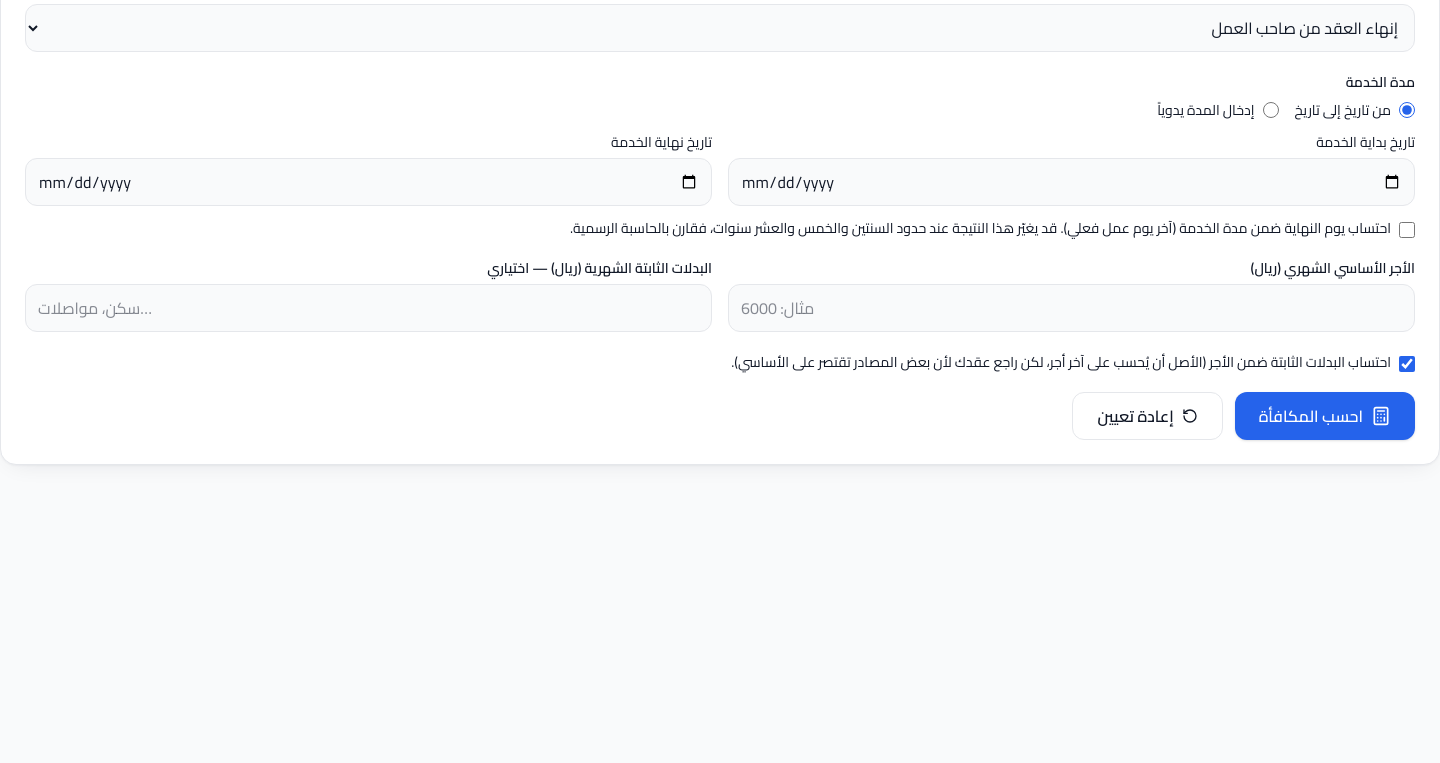
Test case: EosCalculator › accepts Arabic-Indic digits and thousands separators
The image size is (1440, 763).
Click the radio button labelled "إدخال المدة يدوياً" at (1270, 110), box x1=1262 y1=102 x2=1278 y2=118
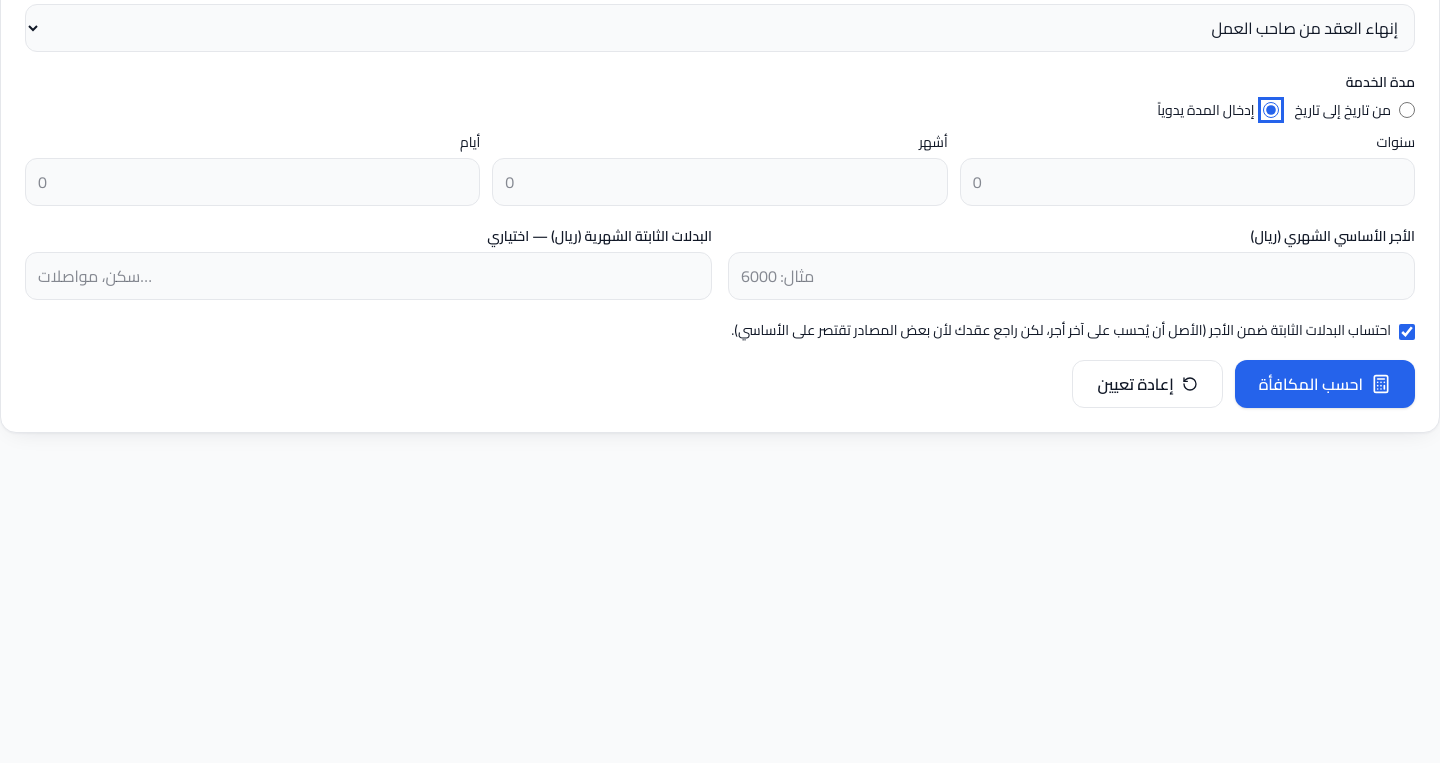
Type "٣" into the field labelled "سنوات" at (1187, 182), box x1=960 y1=158 x2=1415 y2=206
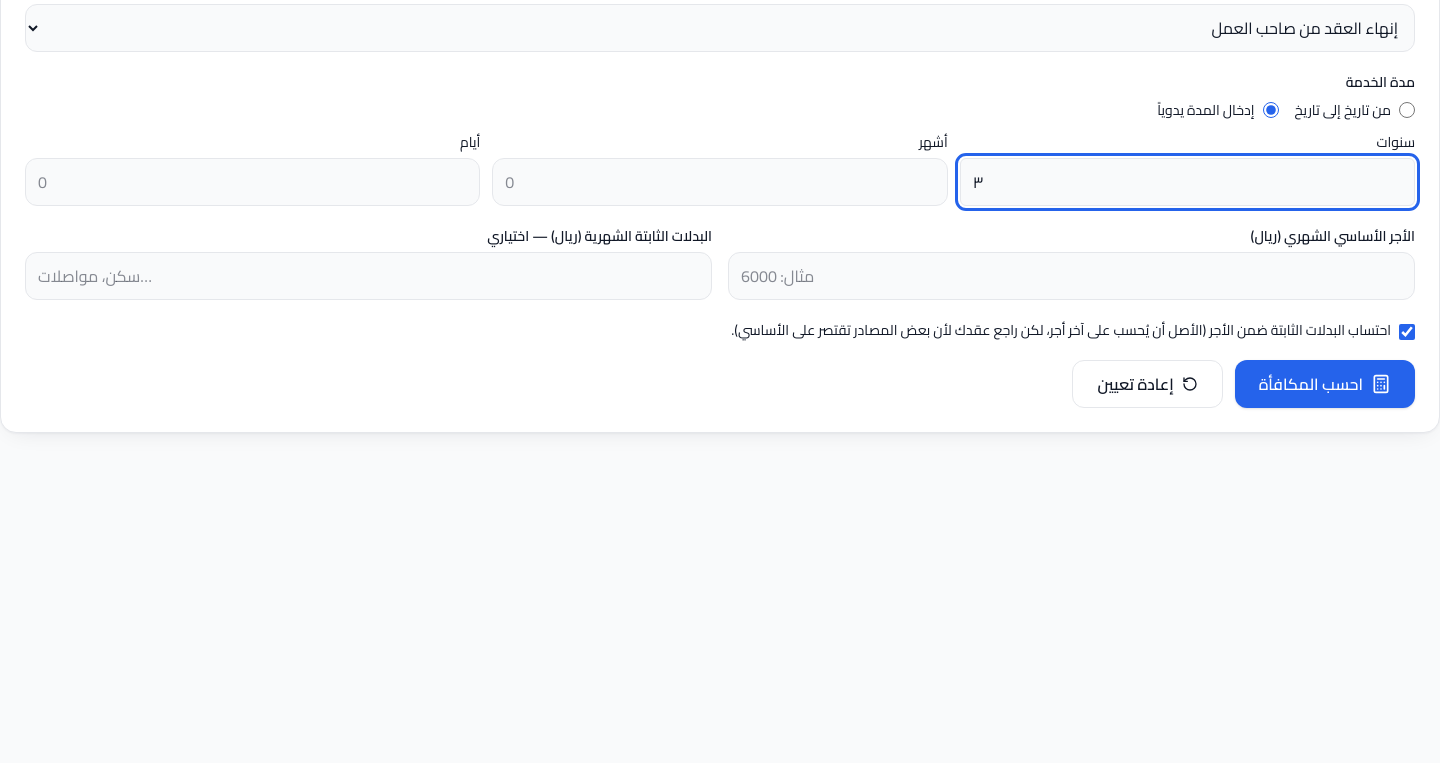
Type "٥٬٠٠٠" into the field labelled "الأجر الأساسي الشهري (ريال)" at (1072, 276), box x1=728 y1=252 x2=1415 y2=300
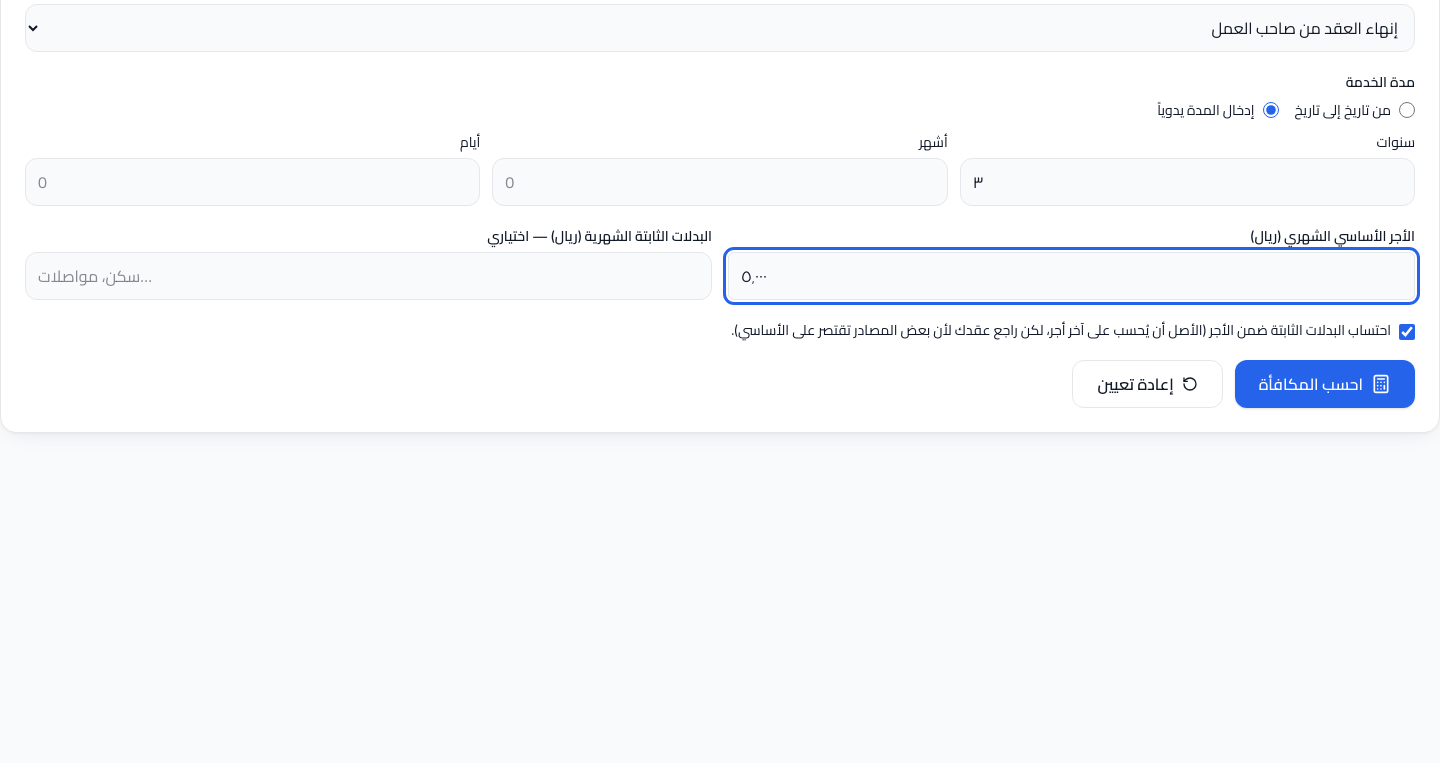
Click the button "احسب المكافأة" at (1325, 384), box x1=1235 y1=360 x2=1415 y2=408
(page scrolled)
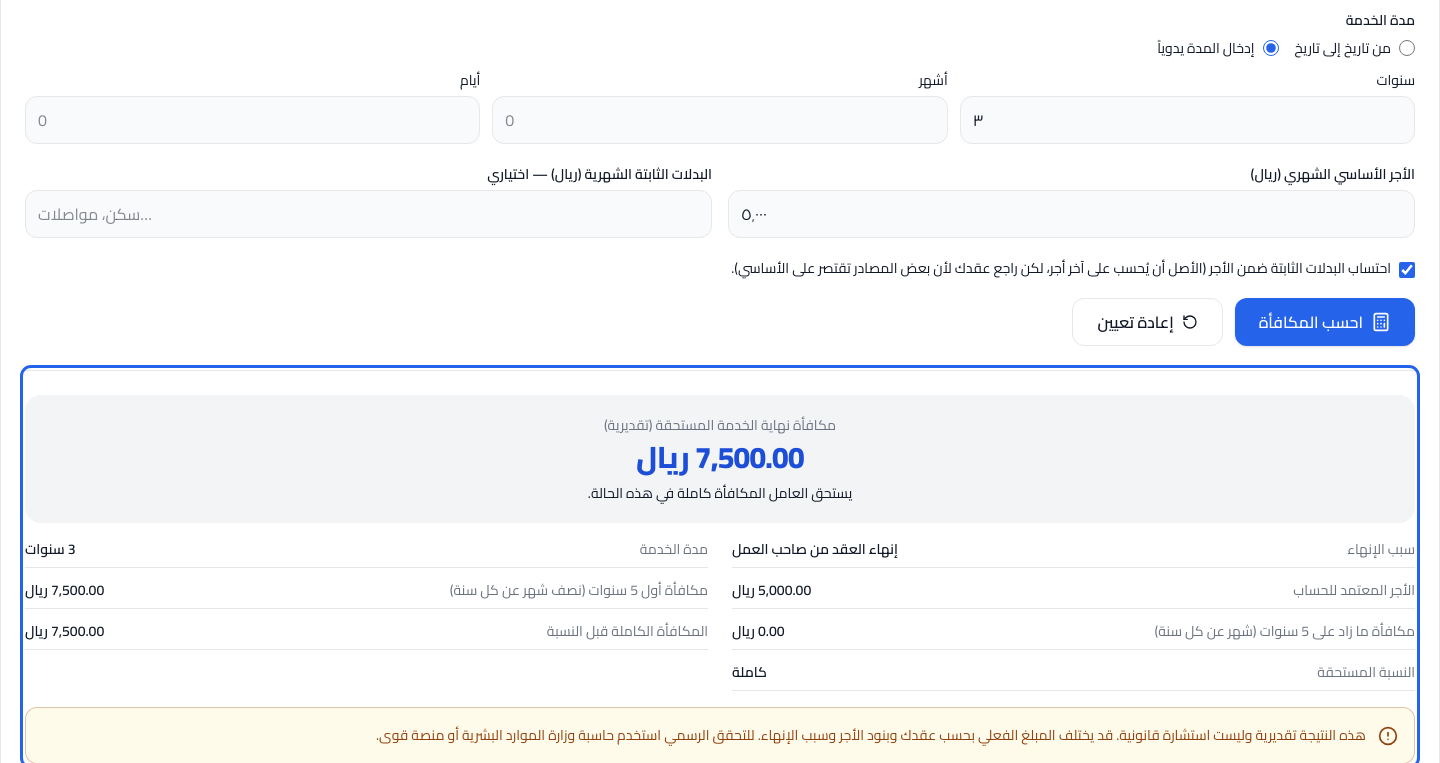
Expected: the text with test id "eos-total" reads "7,500.00 ريال", x1=636 y1=429 x2=804 y2=485
